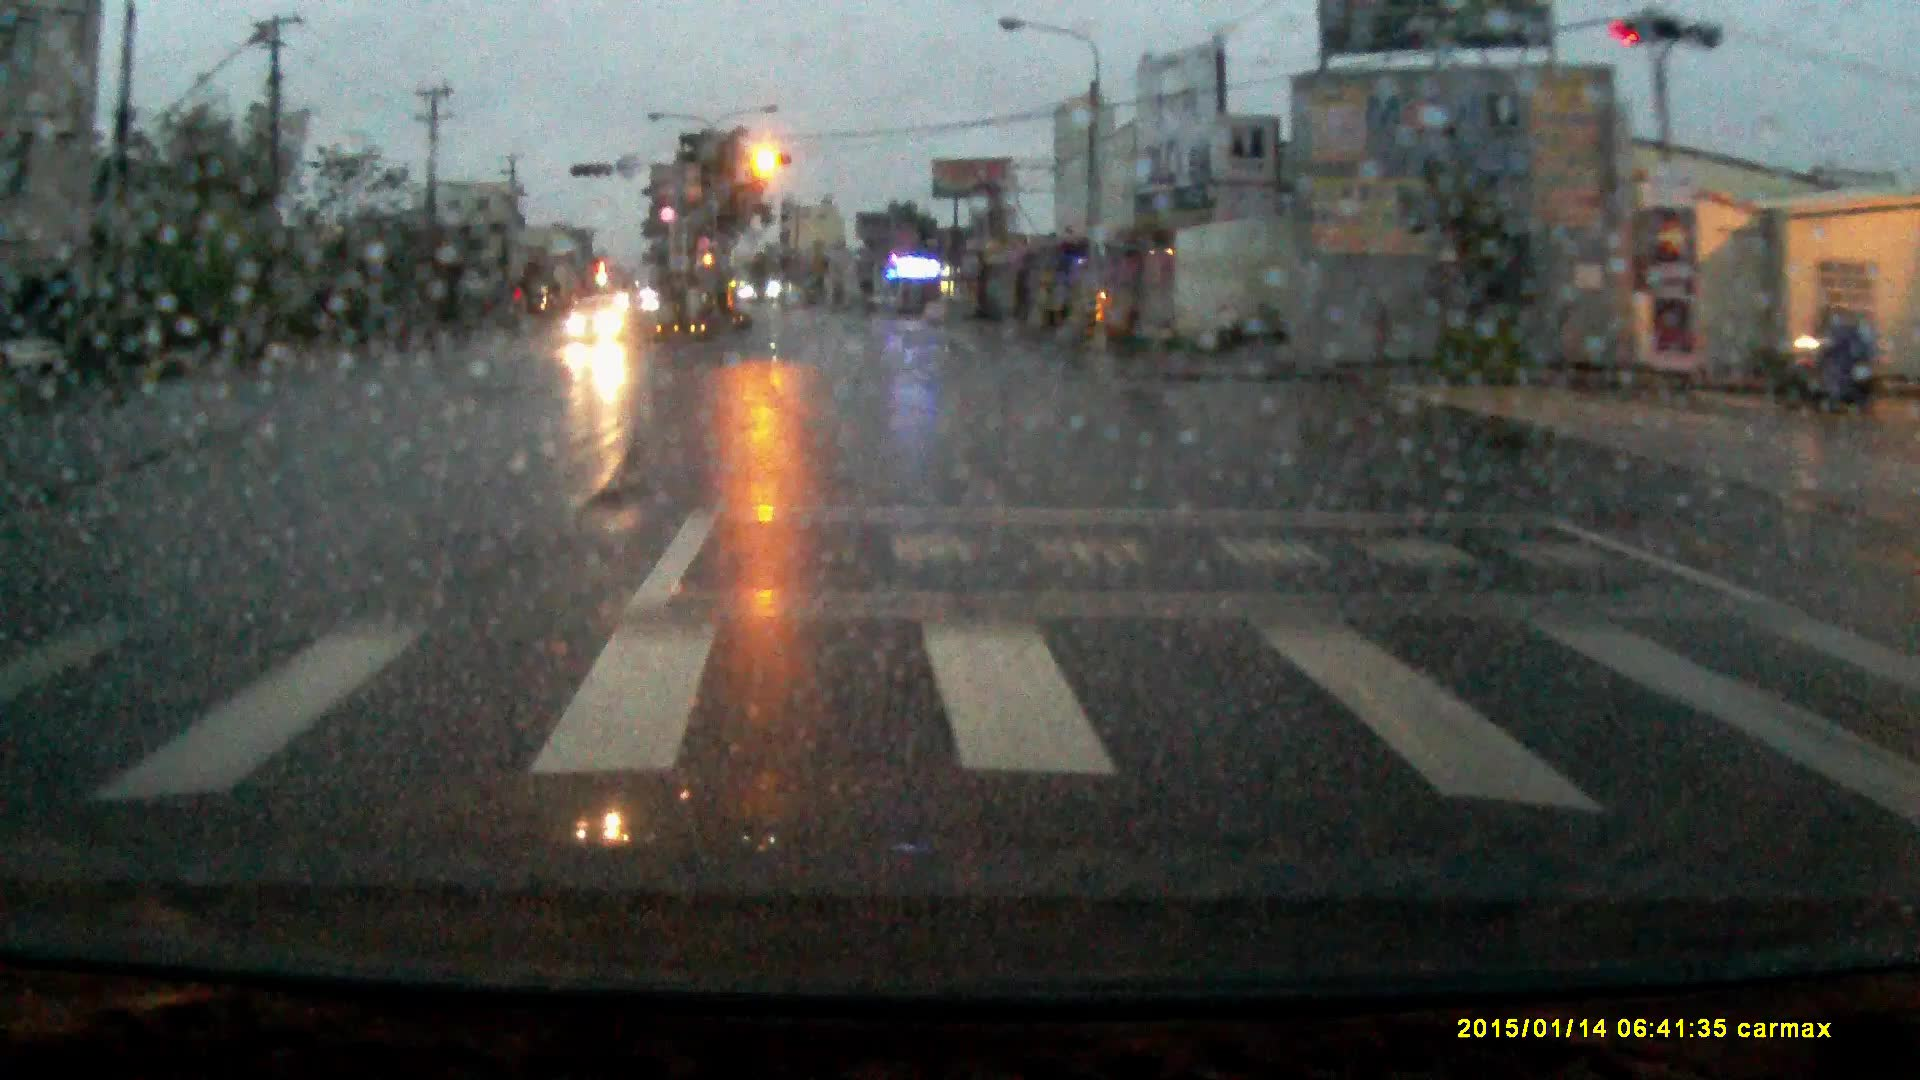rider: (1778, 294, 1883, 419)
vehicle: (564, 294, 629, 340)
